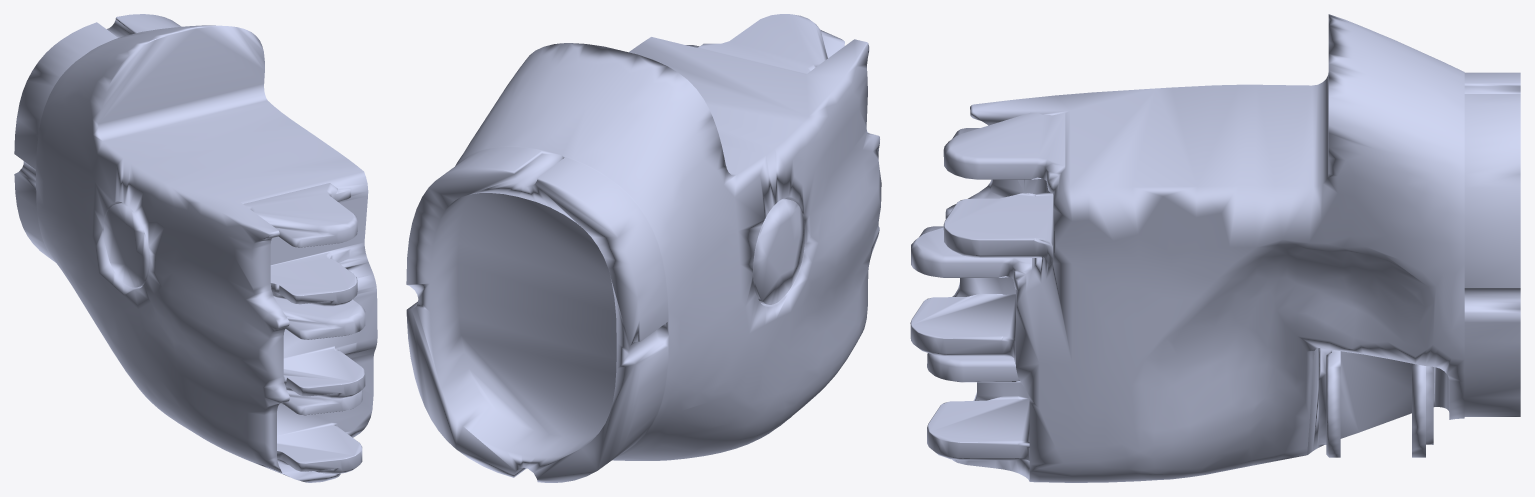
The model's file is left_hand_C_MC_visual_cad1ee.glb.
The picture shows the model from 3 angles, left to right: view 1: azimuth 30°, elevation 25°; view 2: azimuth 150°, elevation 25°; view 3: azimuth 270°, elevation 25°; orthographic projection. The views are drawn at different scales.
Visible parts, largest first — view 1: left_hand_C_MC_visual_0; view 2: left_hand_C_MC_visual_0; view 3: left_hand_C_MC_visual_0.
Boxes of the visible parts, x1,y1,x2,y2 form: left_hand_C_MC_visual_0: [14, 14, 377, 482]; left_hand_C_MC_visual_0: [406, 14, 881, 482]; left_hand_C_MC_visual_0: [910, 14, 1520, 482].
Size of the model in its own units: 0.0499 by 0.0851 by 0.1101.
